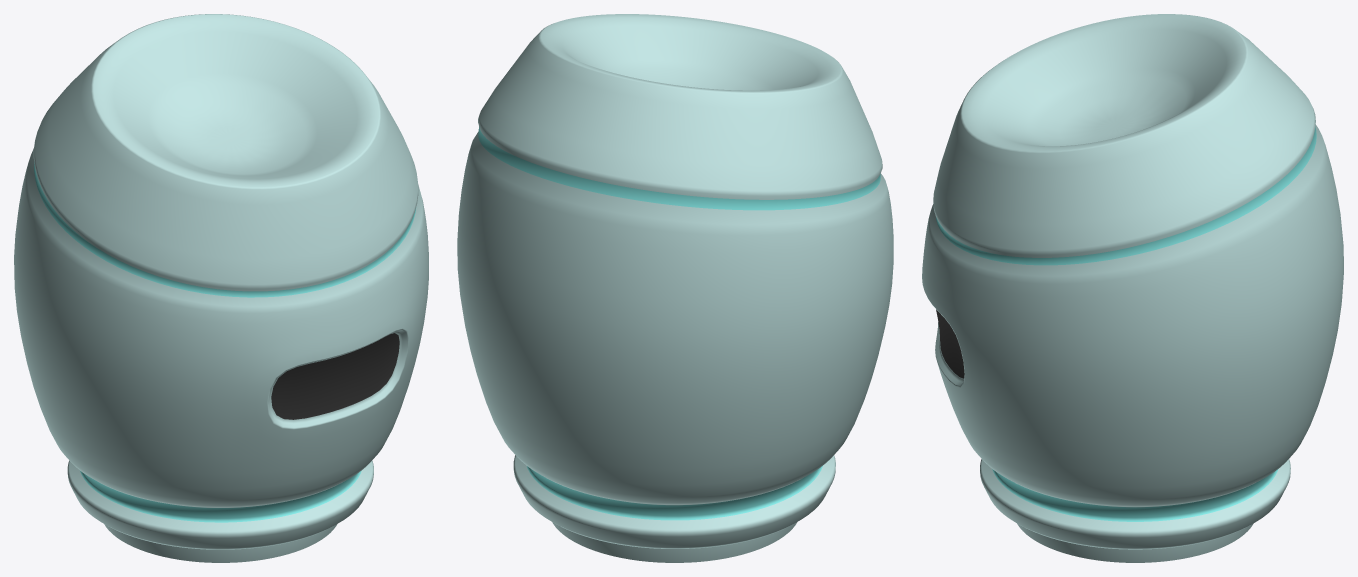
The model's file is torso.fbx.
3 renders of one model, left to right at view 1: azimuth 30°, elevation 25°; view 2: azimuth 150°, elevation 25°; view 3: azimuth 270°, elevation 25°, orthographic. The views are drawn at different scales.
Parts seen in each view (by area): view 1: pCylinder14; view 2: pCylinder14; view 3: pCylinder14.
Boxes of the visible parts, <box> form: pCylinder14: <box>14,14,428,562</box>; pCylinder14: <box>457,14,893,562</box>; pCylinder14: <box>922,14,1343,562</box>.
Size of the model in its own units: 7.48 by 8.99 by 7.48.
